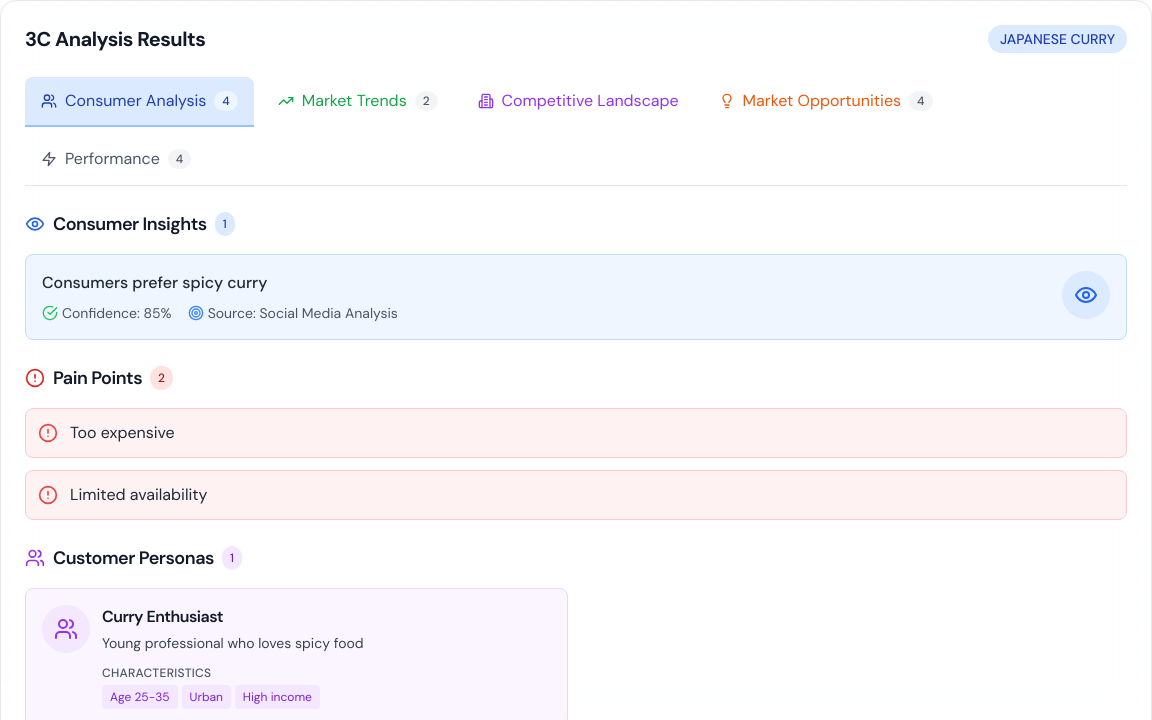
Test: ResultsDashboard › displays opportunities when tab is selected
The width and height of the screenshot is (1152, 720).
Click on Market Opportunities tab
Step 1. Click the text "Market Opportunities" → (822, 101), box [743,89,901,113]
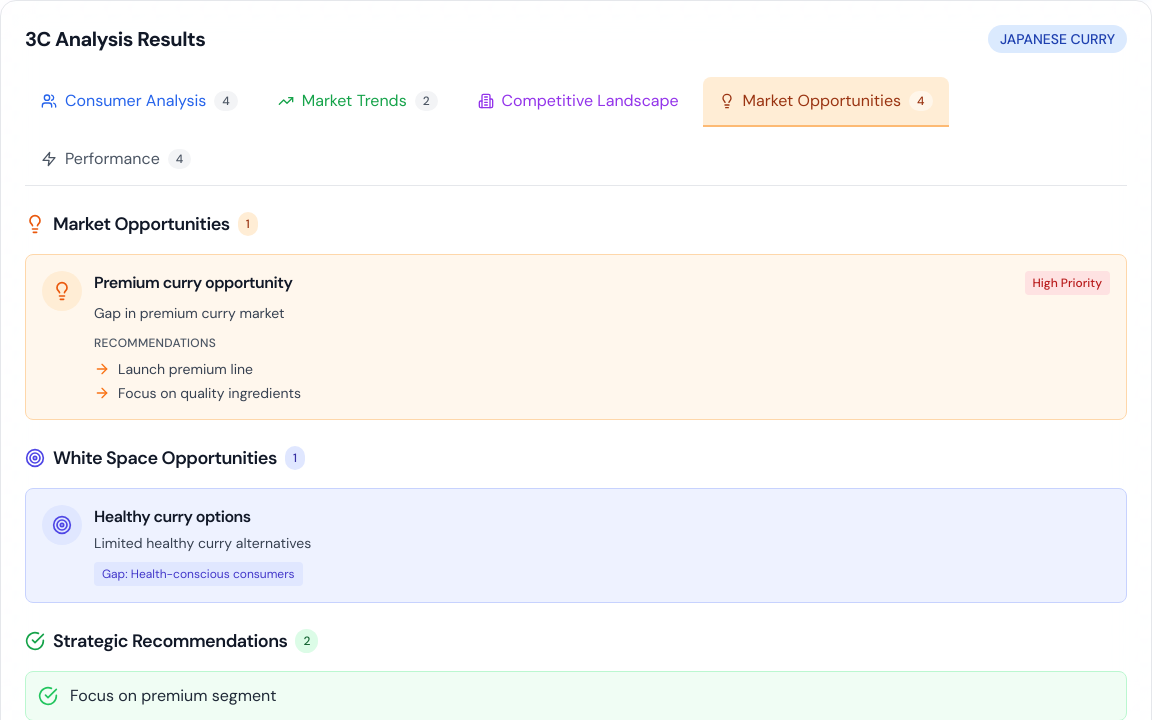
Now the heading "Premium curry opportunity" is shown, box [94,271,292,295]
Now the text "High Priority" is shown, box [1025,271,1110,295]
